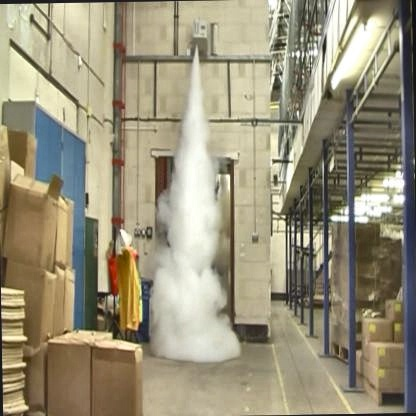smoke: (144, 41, 226, 360)
